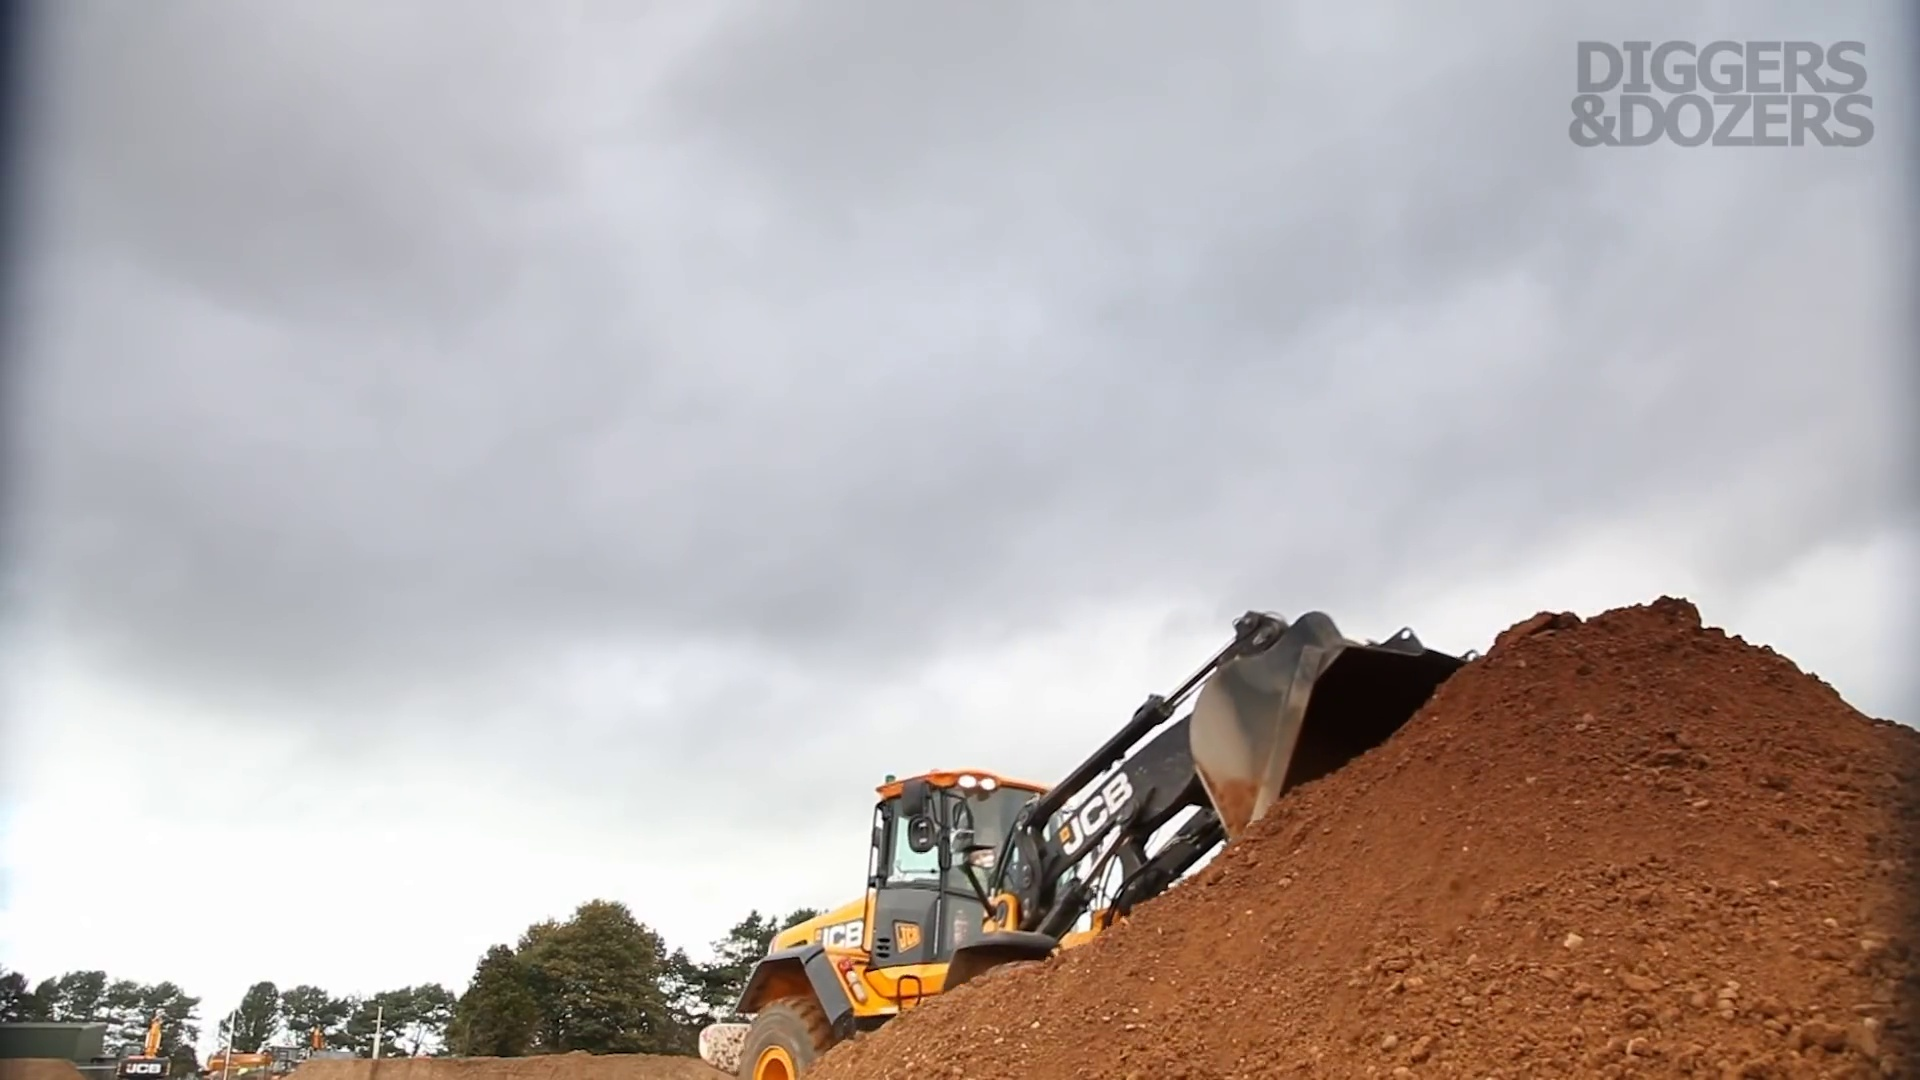wheel loader: (735, 605, 1524, 1080)
